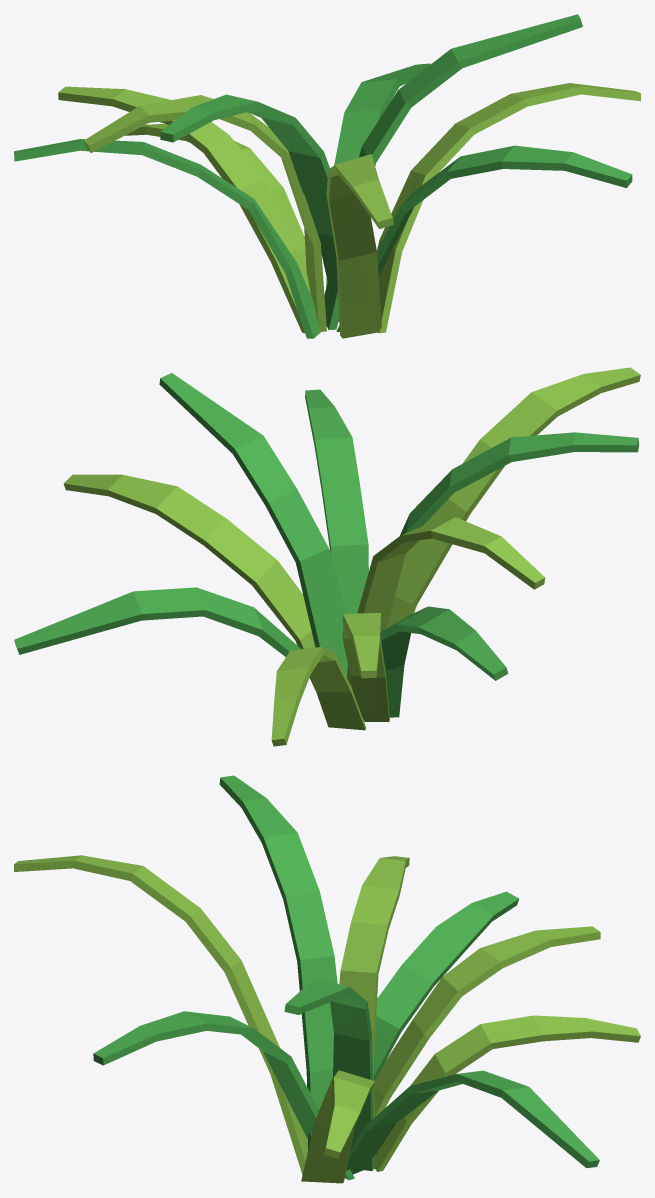
The model's file is grass_03.obj.
3 views of the same model, one above another, from view 1: azimuth 30°, elevation 25°; view 2: azimuth 150°, elevation 25°; view 3: azimuth 270°, elevation 25° (orthographic). The views are drawn at different scales.
Visible parts, largest first — view 1: grass_01_Plane.001; view 2: grass_01_Plane.001; view 3: grass_01_Plane.001.
Part boxes in pixels (box(x1,y1,x2,y2)): grass_01_Plane.001: box(14, 14, 640, 338); grass_01_Plane.001: box(14, 367, 640, 746); grass_01_Plane.001: box(14, 775, 640, 1183).
Size of the model in its own units: 391 by 203 by 405.
